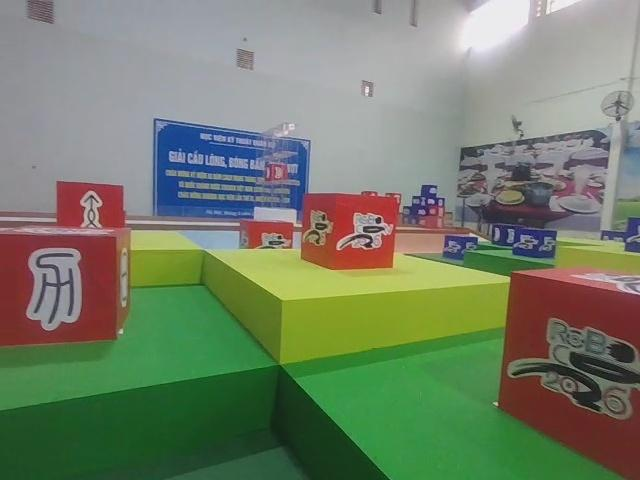R1: (494, 263, 640, 480), (299, 189, 400, 273)
R2 Fake: (0, 222, 133, 347)
R2 Real: (51, 177, 128, 241)
